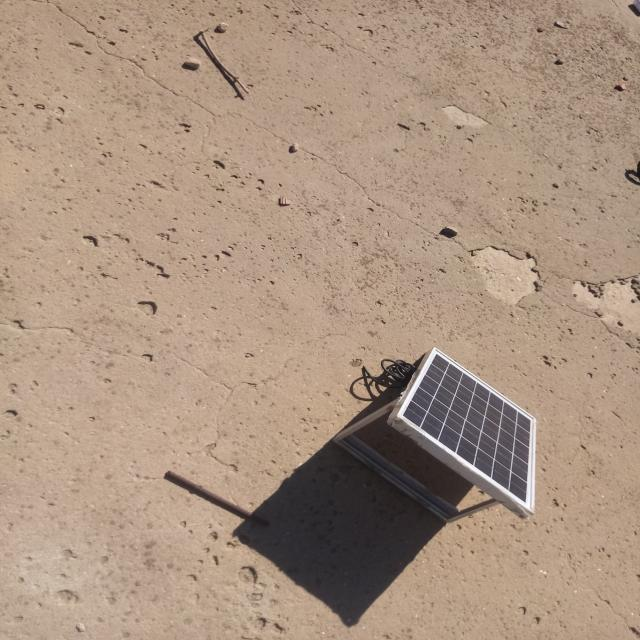no faulty: (398, 348, 535, 514)
